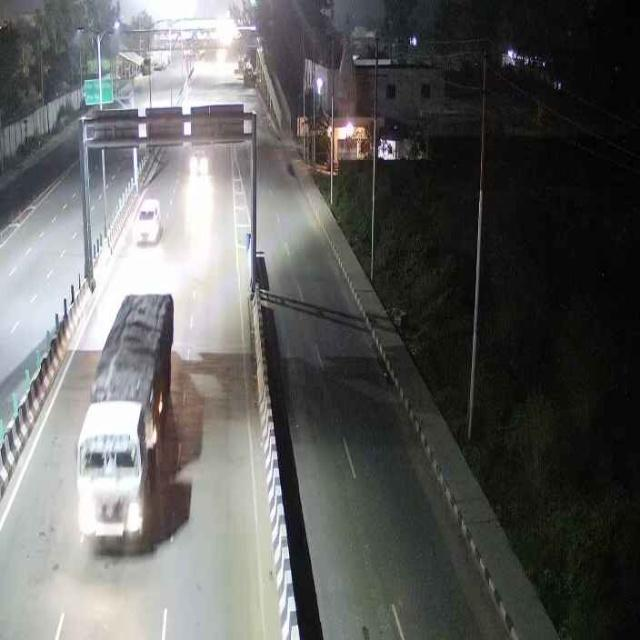car: (131, 192, 164, 249)
